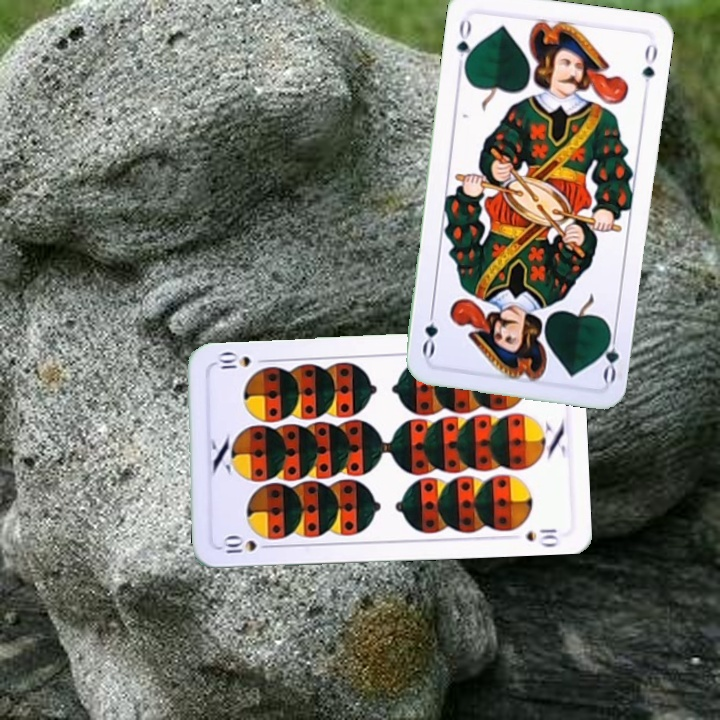GO: (597, 324, 622, 385), (452, 14, 477, 73)
S10: (217, 532, 276, 557)
